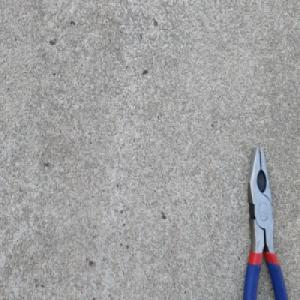Pliers: (242, 144, 290, 300)
